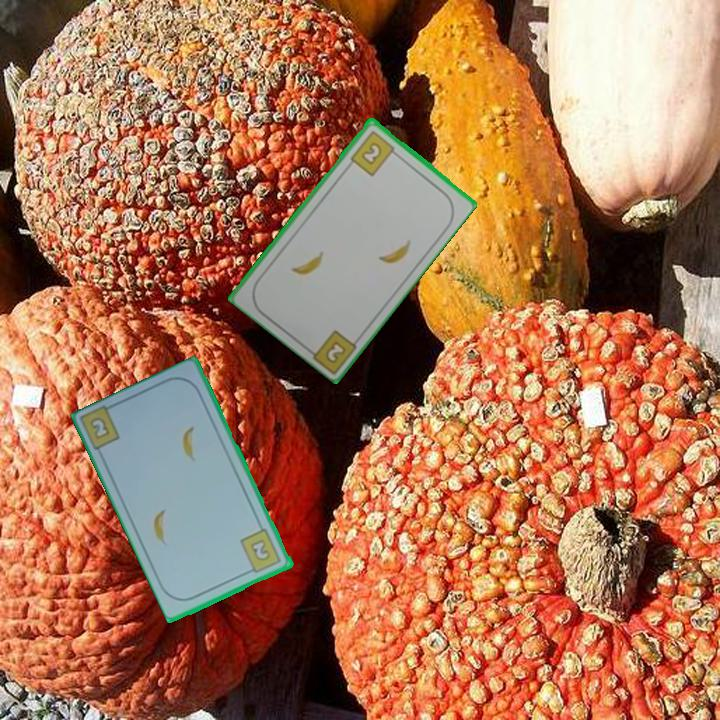2b: (347, 127, 401, 178), (237, 525, 284, 577), (321, 337, 349, 366), (86, 413, 113, 442)
